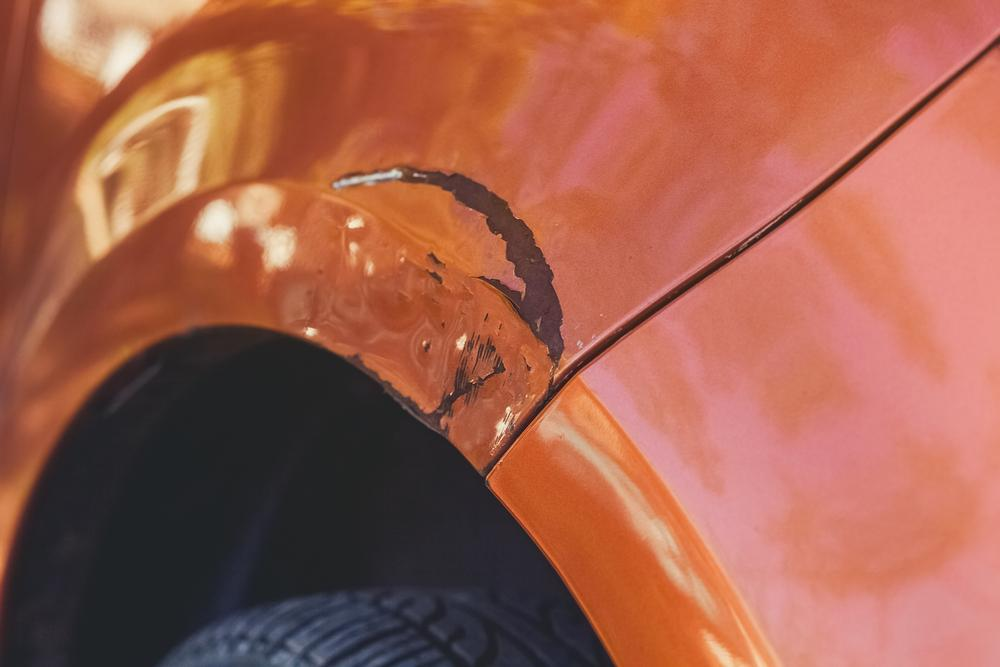dent: (275, 202, 547, 454)
scratch: (326, 161, 570, 380)
